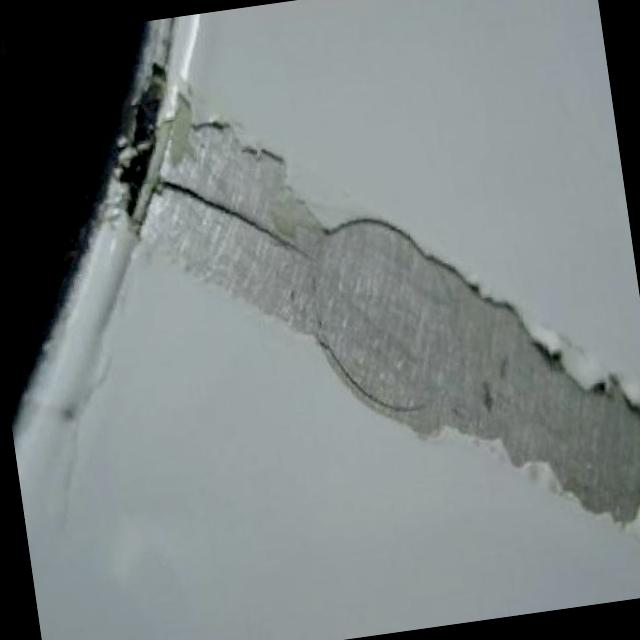crack: (230, 199, 304, 257), (158, 169, 229, 221)
